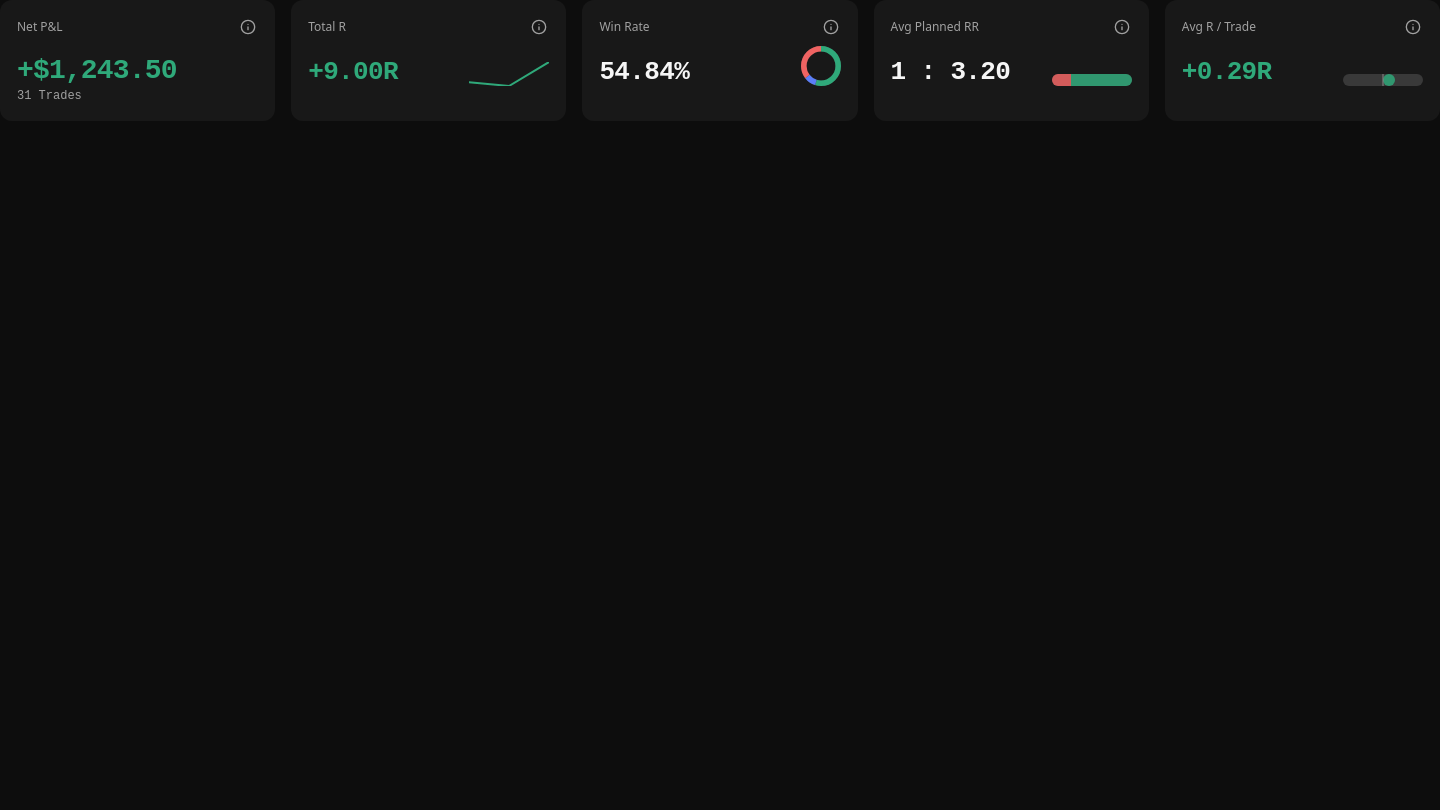
Test case: BasicKpiRow › gives every metric its own named definition affordance
Expected: the button named "About Net P&L" is shown, [234,13,262,41]
Expected: the button named "About Win Rate" is shown, [817,13,845,41]
Click the button named "About Total R". click: (539, 27)
box: [525,13,553,41]
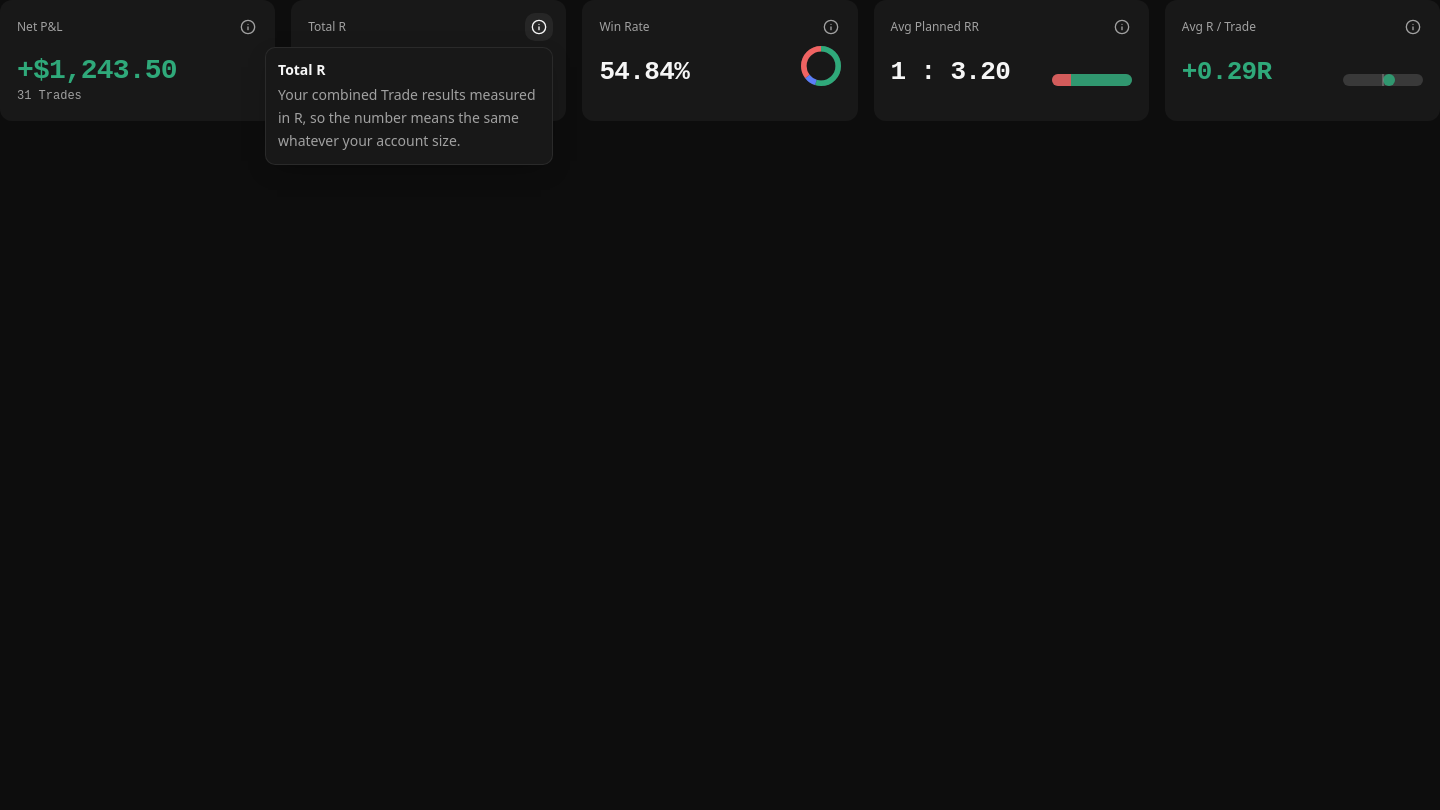
Expected: the text "whatever your account size" is shown, [278,85,536,150]
